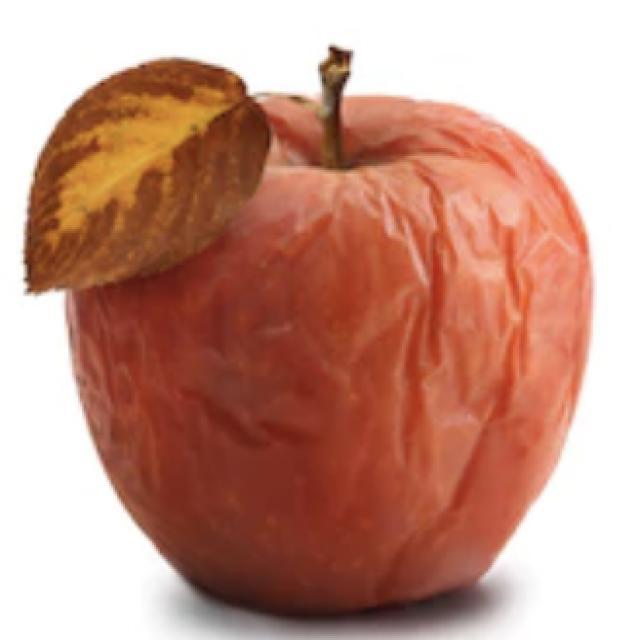Rotten: (67, 55, 591, 612)
